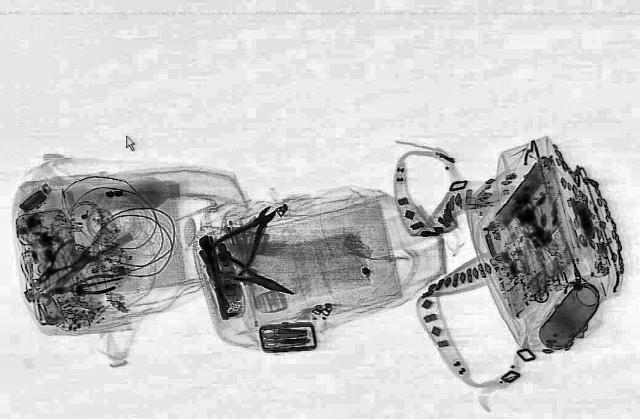Pliers: (194, 200, 296, 276), (206, 253, 300, 302), (19, 237, 93, 291), (43, 271, 121, 301)
Wrench: (30, 244, 104, 308)
